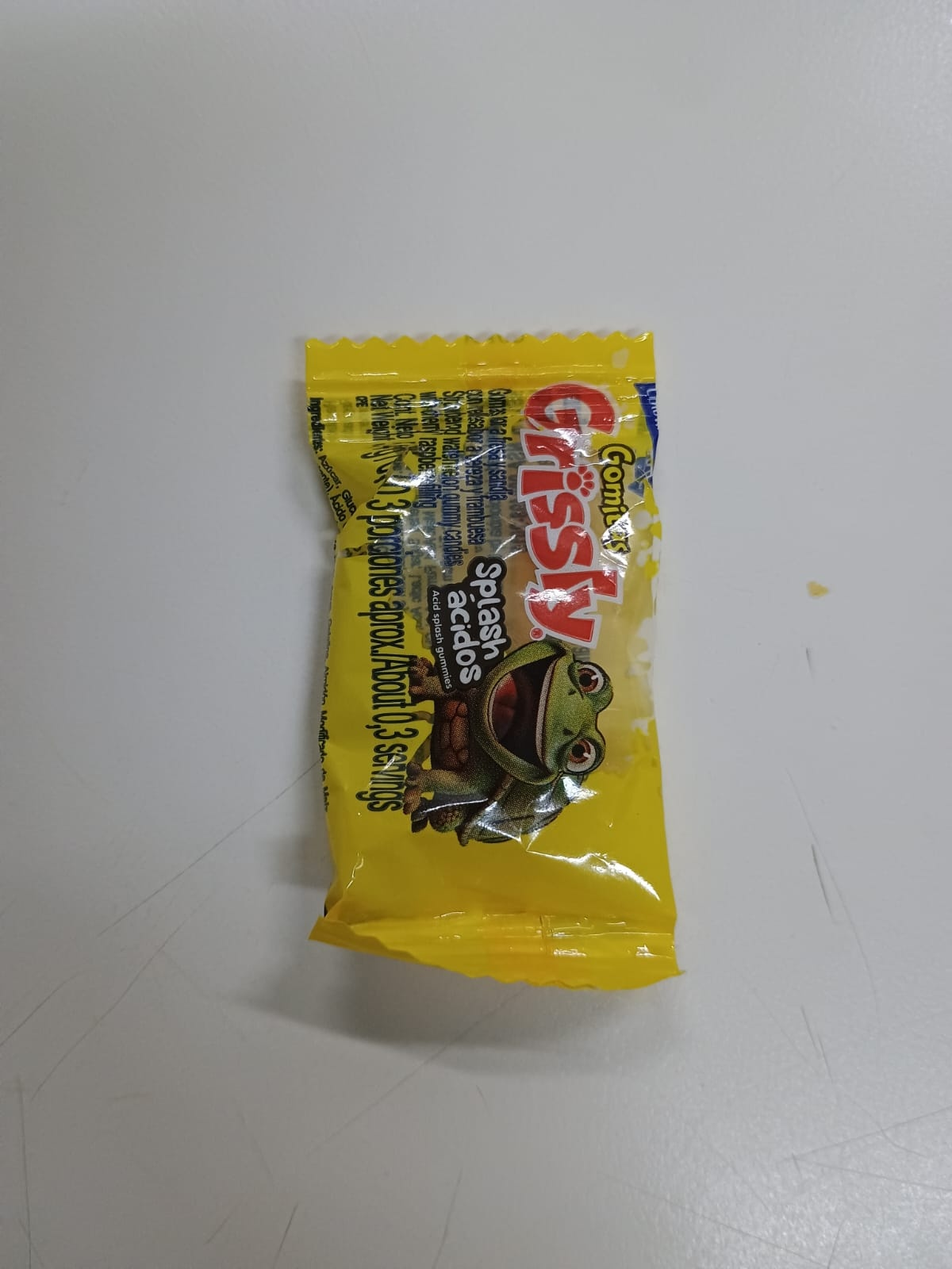Ordinario: (301, 335, 685, 993)
